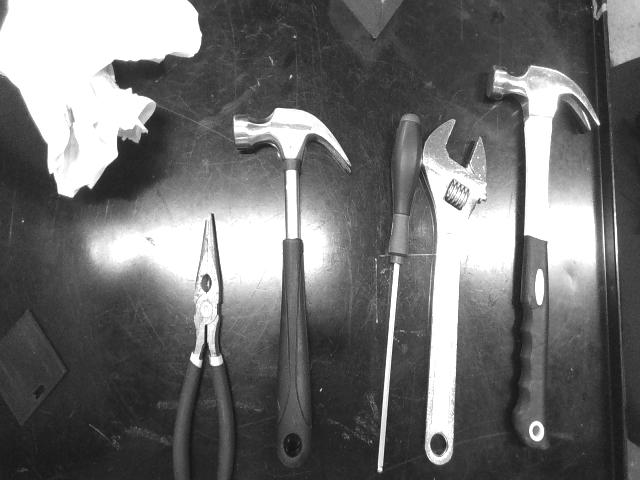Adjustable spanner: (421, 120, 486, 464)
Hammer: (486, 65, 600, 448), (232, 108, 351, 468)
Needle-nose pliers: (172, 213, 234, 480)
Screwdriver: (378, 113, 422, 472)
